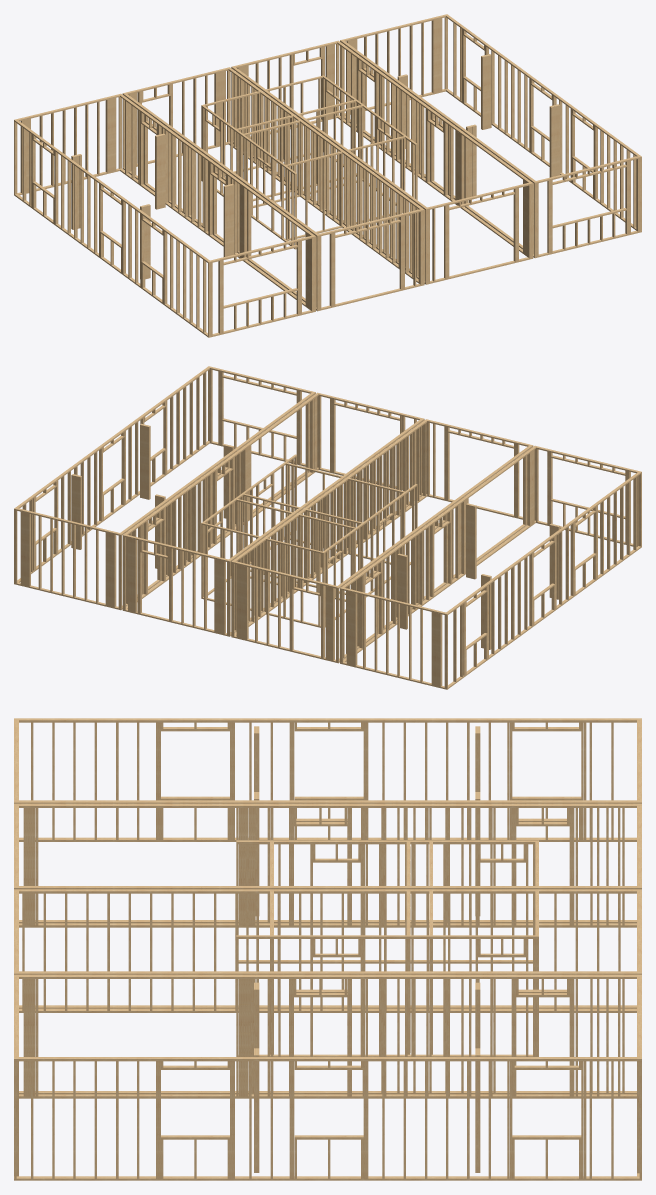
File: Karkass_400.glb
The picture shows the model from 3 angles, top to bottom: view 1: azimuth 30°, elevation 25°; view 2: azimuth 150°, elevation 25°; view 3: azimuth 270°, elevation 25°; orthographic projection. The views are drawn at different scales.
Visible parts, largest first — view 1: Post 45x95_1664 (×2), Post 45x95_235 (×13); view 2: Post 45x95_1664 (×2), Post 45x95_235 (×12); view 3: Post 45x95_235 (×16), Post 45x95_1664, Post 45x95_1617 (×4), Post 45x95_207 (×2).
Part boxes in pixels (left/top/right/bottom): Post 45x95_1664 (×2): left=227, top=70, right=425, bottom=281; Post 45x95_235 (×13): left=14, top=14, right=641, bottom=337; Post 45x95_1664 (×2): left=227, top=423, right=426, bottom=636; Post 45x95_235 (×12): left=14, top=366, right=641, bottom=689; Post 45x95_235 (×16): left=14, top=718, right=641, bottom=1180; Post 45x95_1664: left=22, top=893, right=620, bottom=1010; Post 45x95_1617 (×4): left=236, top=840, right=535, bottom=1056; Post 45x95_207 (×2): left=254, top=1054, right=480, bottom=1172.
Size of the model in its own units: 15.15 by 2.52 by 11.8.
1 material, 1 textured.
